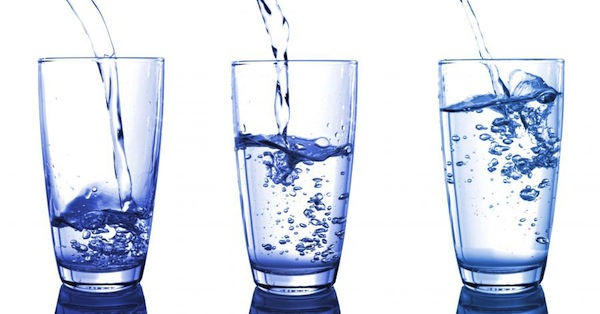glass of water: (40, 55, 159, 293), (443, 61, 560, 294), (231, 64, 347, 294)
